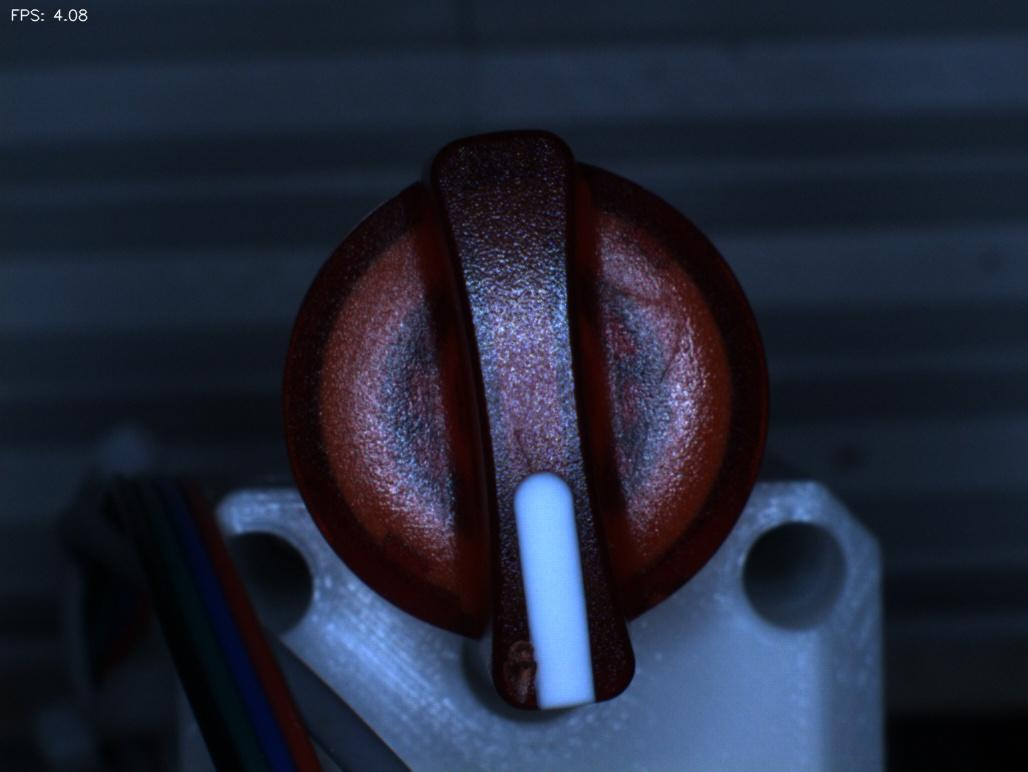Choc: (483, 623, 562, 717)
